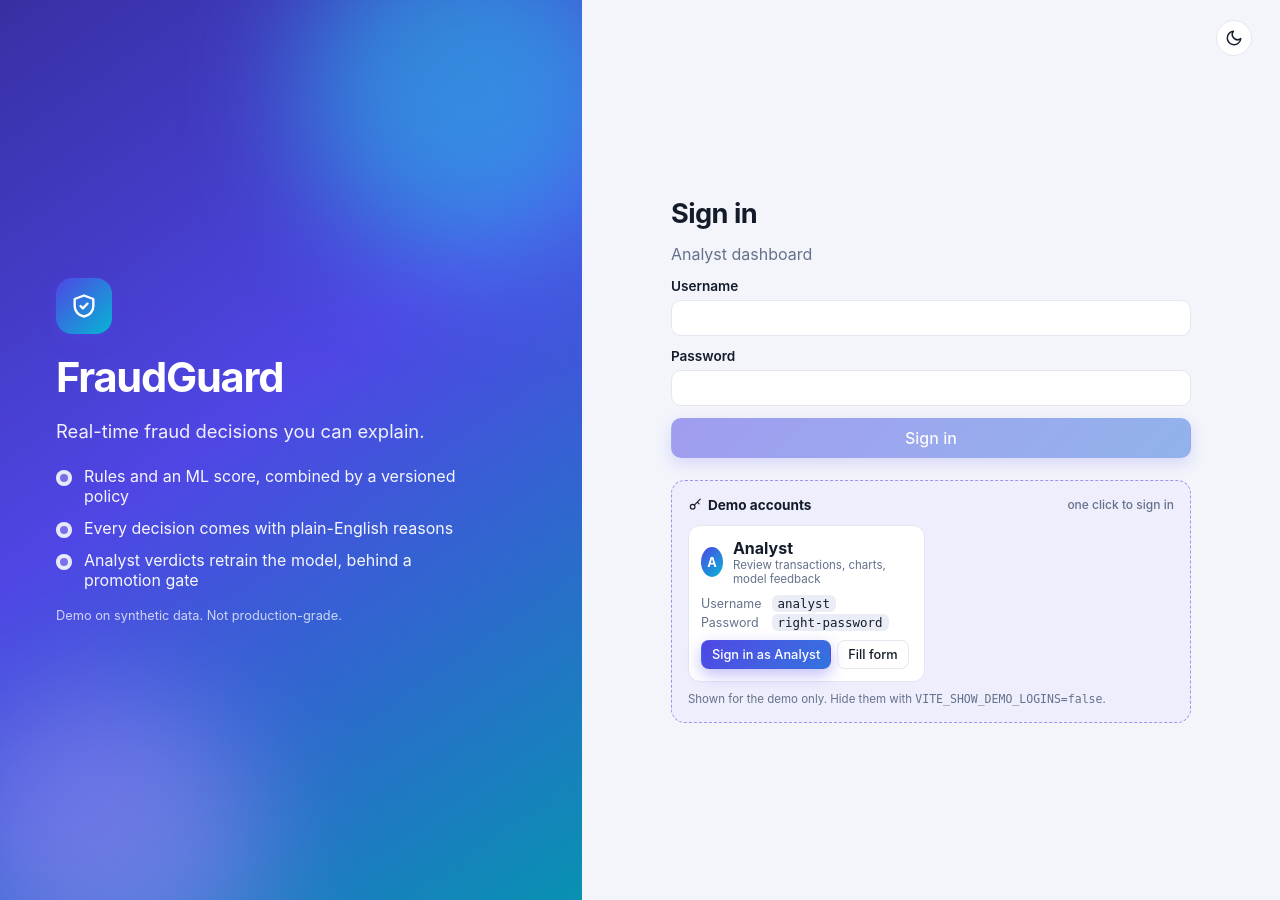
Test: demo accounts on the login page › "Fill form" puts the credentials in the form without signing in
The width and height of the screenshot is (1280, 900).
Click the button "Fill form".
click(873, 655)  # box x1=837 y1=640 x2=909 y2=669
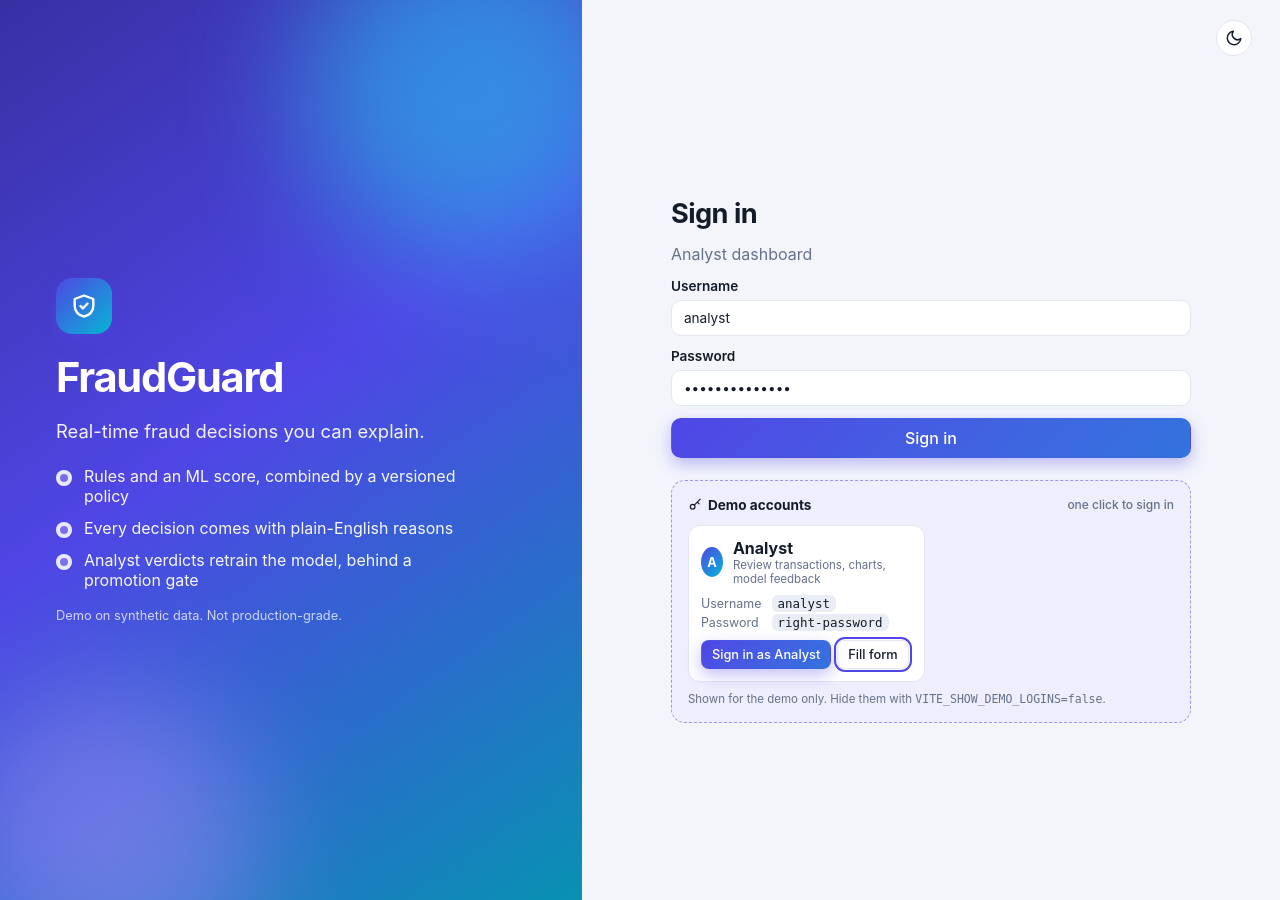
Expected: the button "Sign in" is shown, x1=671 y1=418 x2=1191 y2=458
Expected: the field labelled "Username" holds "analyst", x1=671 y1=300 x2=1191 y2=336
Expected: the password field labelled "Password" holds "right-password", x1=671 y1=370 x2=1191 y2=406
